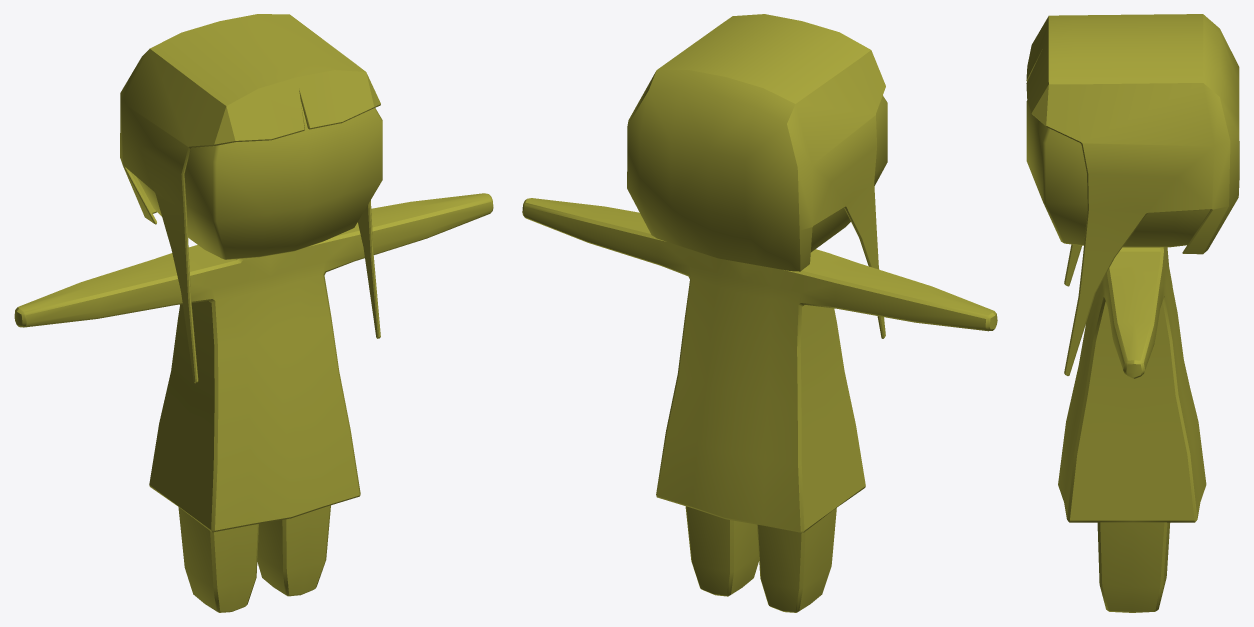
The model's file is Female_Character_03.fbx.
The picture shows the model from 3 angles, left to right: view 1: azimuth 30°, elevation 25°; view 2: azimuth 150°, elevation 25°; view 3: azimuth 270°, elevation 25°; orthographic projection.
Parts seen in each view (by area): view 1: Female_Character, Female_hair; view 2: Female_Character, Female_hair; view 3: Female_Character, Female_hair.
Part boxes in pixels (box(x1,y1,x2,y2)): Female_Character: box(14, 102, 493, 612); Female_hair: box(120, 14, 380, 383); Female_Character: box(522, 95, 997, 612); Female_hair: box(627, 14, 885, 338); Female_Character: box(1026, 100, 1209, 612); Female_hair: box(1026, 14, 1239, 375).
Size of the model in its own units: 154 by 170 by 59.34.
